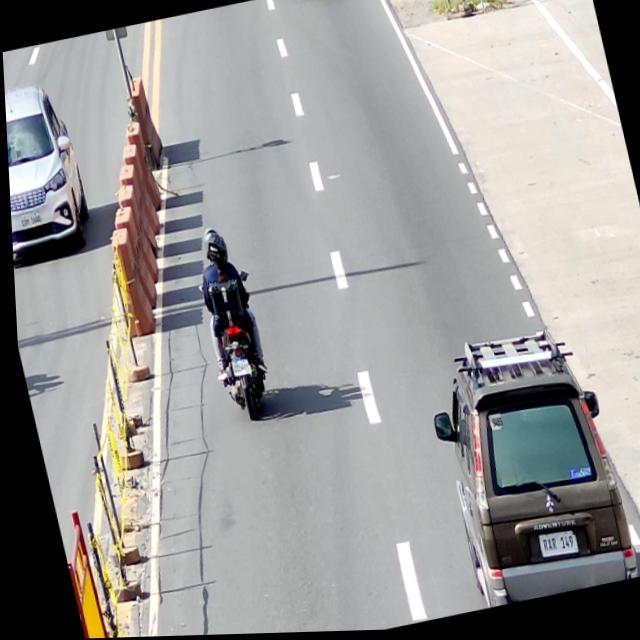Car: (412, 319, 635, 614), (3, 78, 97, 266)
License-Plate: (531, 530, 573, 563), (15, 210, 41, 228), (227, 360, 247, 378)
Motorcycle: (191, 269, 276, 428)
